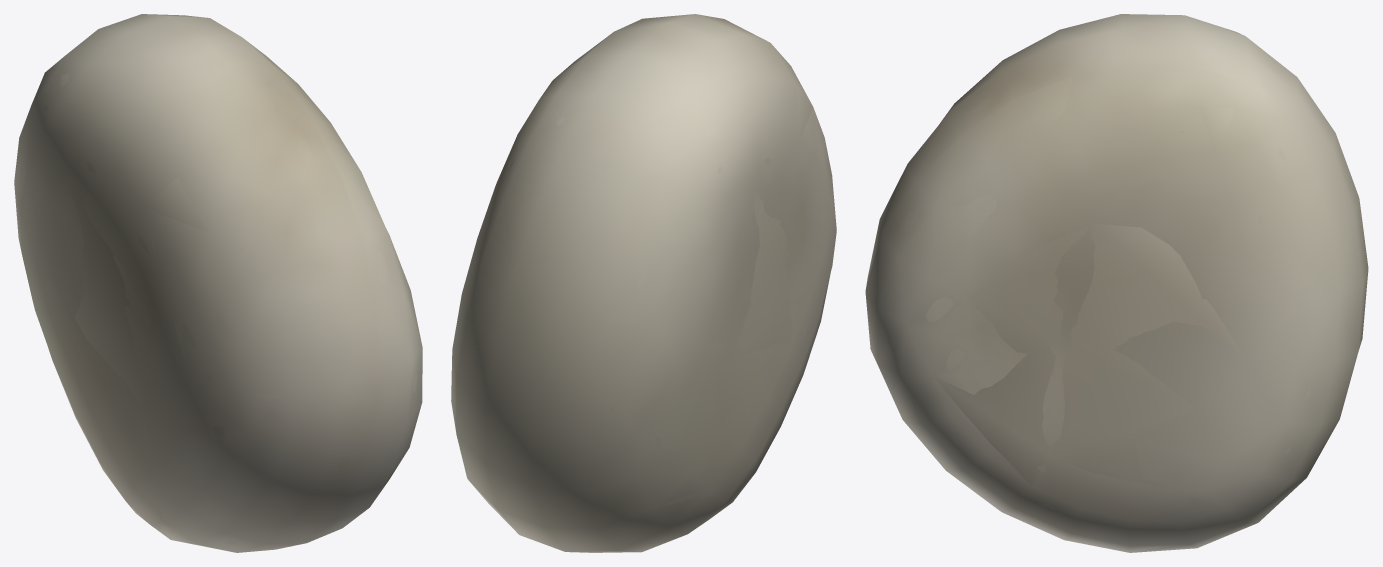
Rendered from R tarsale primum.fbx.
The picture shows the model from 3 angles, left to right: view 1: azimuth 30°, elevation 25°; view 2: azimuth 150°, elevation 25°; view 3: azimuth 270°, elevation 25°; orthographic projection. The views are drawn at different scales.
Parts seen in each view (by area): view 1: R tarsale primum, R tarsale primum low, R tarsale primum high; view 2: R tarsale primum, R tarsale primum low, R tarsale primum high; view 3: R tarsale primum, R tarsale primum low, R tarsale primum high.
Boxes of the visible parts, left/top/right/bottom form: R tarsale primum: left=14, top=14, right=422, bottom=552; R tarsale primum low: left=45, top=14, right=422, bottom=548; R tarsale primum high: left=19, top=27, right=417, bottom=544; R tarsale primum: left=451, top=14, right=836, bottom=552; R tarsale primum low: left=468, top=14, right=824, bottom=552; R tarsale primum high: left=454, top=28, right=832, bottom=540; R tarsale primum: left=865, top=14, right=1368, bottom=552; R tarsale primum low: left=866, top=16, right=1367, bottom=552; R tarsale primum high: left=872, top=27, right=1349, bottom=513.
Size of the model in its own units: 0.2287 by 0.4415 by 0.4079.
Materials: 1 (1 with a texture image).
